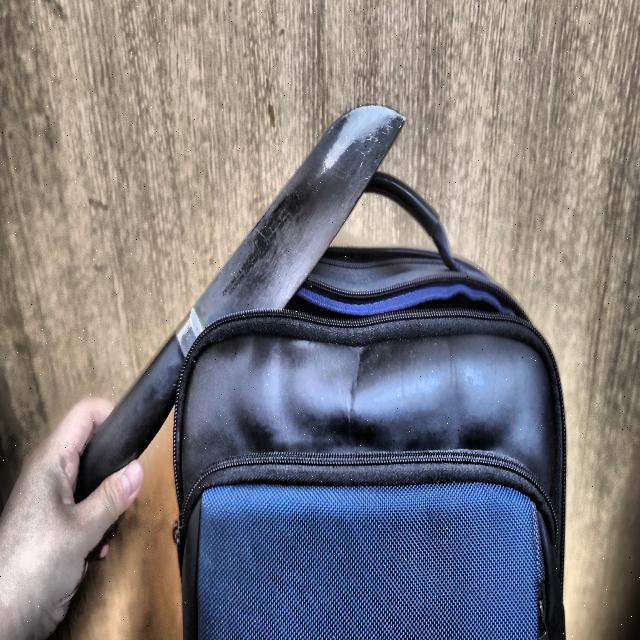knife: (81, 102, 404, 521)
